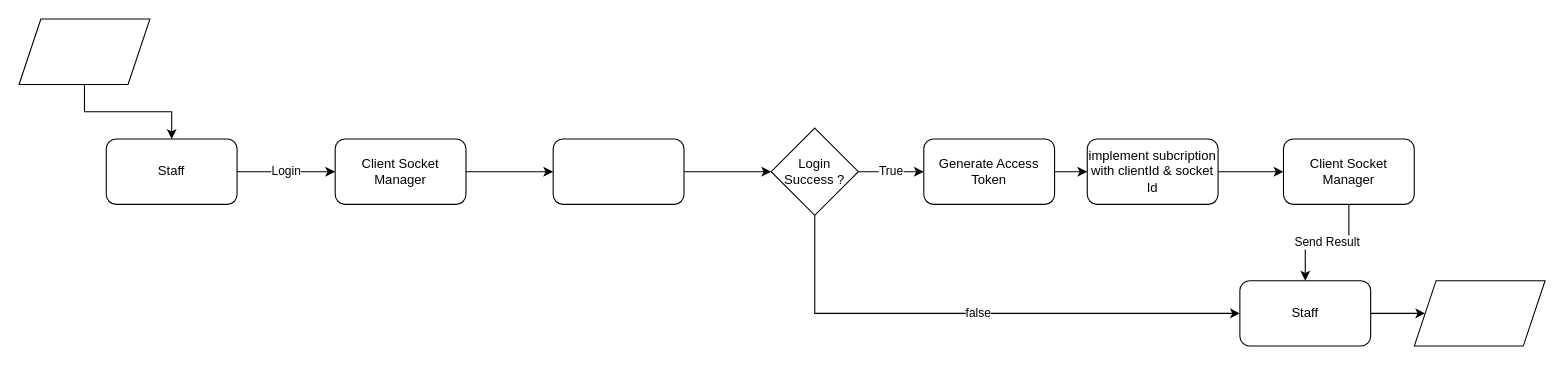
The diagram is 1564 pixels wide and 365 high, and some of its shapes have lost their labels. Each missing label, with the box of its shape:
Auth Service: (552, 138, 684, 204)
End: (1413, 280, 1545, 346)
Start: (18, 18, 150, 84)
